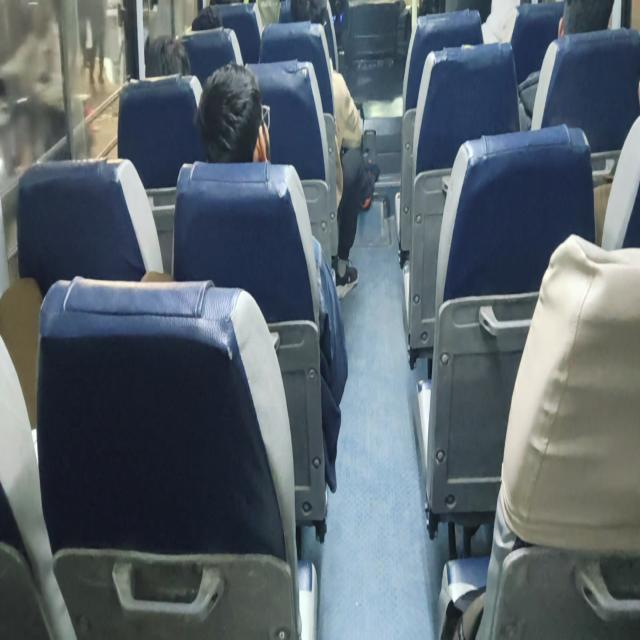person: (194, 61, 348, 492), (272, 18, 378, 300), (518, 0, 615, 129), (330, 66, 379, 300), (194, 62, 270, 164), (145, 35, 191, 77)
